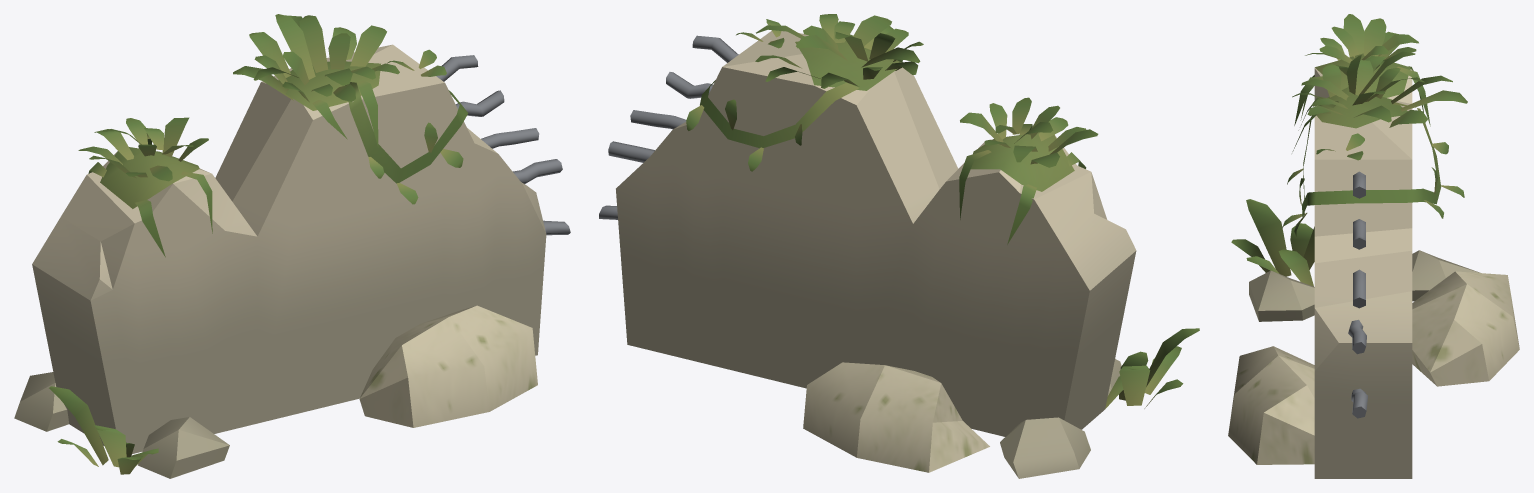
File: BO_RockWall_4x2.5x2.fbx
The picture shows the model from 3 angles, left to right: view 1: azimuth 30°, elevation 25°; view 2: azimuth 150°, elevation 25°; view 3: azimuth 270°, elevation 25°; orthographic projection. The views are drawn at different scales.
Visible parts, largest first — view 1: BO_RockWall_02; view 2: BO_RockWall_02; view 3: BO_RockWall_02.
Boxes of the visible parts, bbox=[...] form: BO_RockWall_02: bbox=[14, 14, 570, 478]; BO_RockWall_02: bbox=[599, 14, 1199, 478]; BO_RockWall_02: bbox=[1228, 14, 1519, 478].
Bounding box in the file's own units: 400 × 250 × 200.
